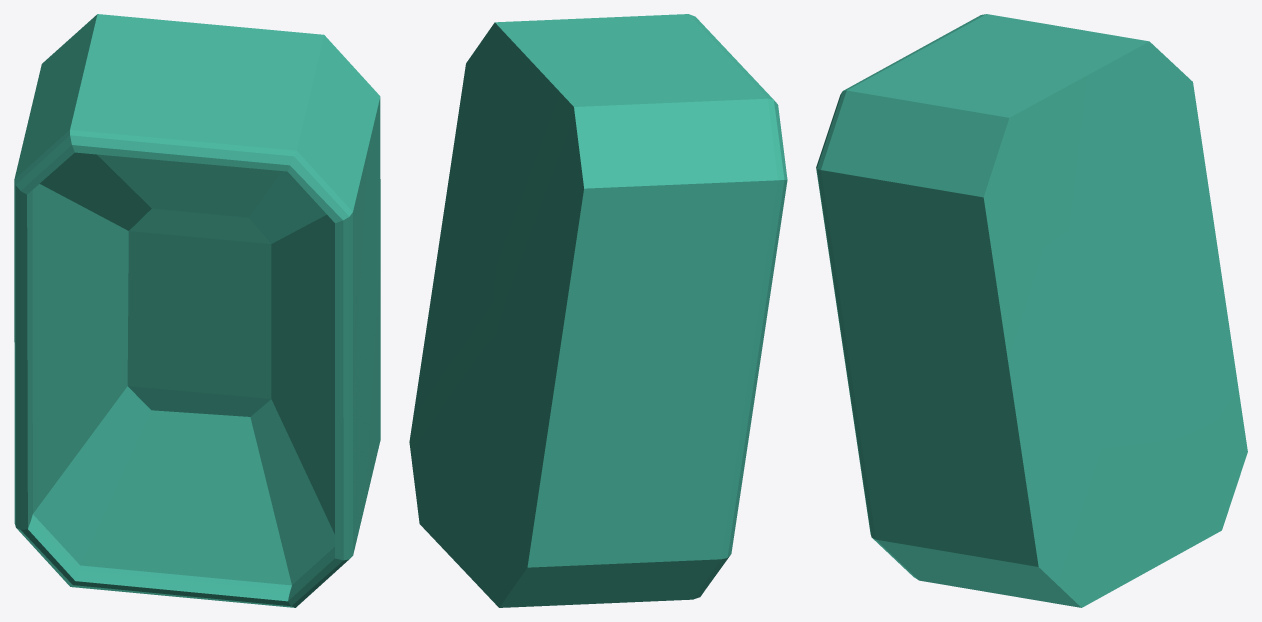
Rendered from BL3_8shapes_Emerald_Classic_Metal.001 3.glb.
The picture shows the model from 3 angles, left to right: view 1: azimuth 30°, elevation 25°; view 2: azimuth 150°, elevation 25°; view 3: azimuth 270°, elevation 25°; orthographic projection. The views are drawn at different scales.
Parts seen in each view (by area): view 1: BL3_8shapes_Emerald_Classic_Metal.001; view 2: BL3_8shapes_Emerald_Classic_Metal.001; view 3: BL3_8shapes_Emerald_Classic_Metal.001.
Part boxes in pixels (<box>): BL3_8shapes_Emerald_Classic_Metal.001: <box>14,14,380,607</box>; BL3_8shapes_Emerald_Classic_Metal.001: <box>409,14,787,607</box>; BL3_8shapes_Emerald_Classic_Metal.001: <box>816,14,1247,607</box>.
Bounding box in the file's own units: 0.5003 × 0.6704 × 0.523.
